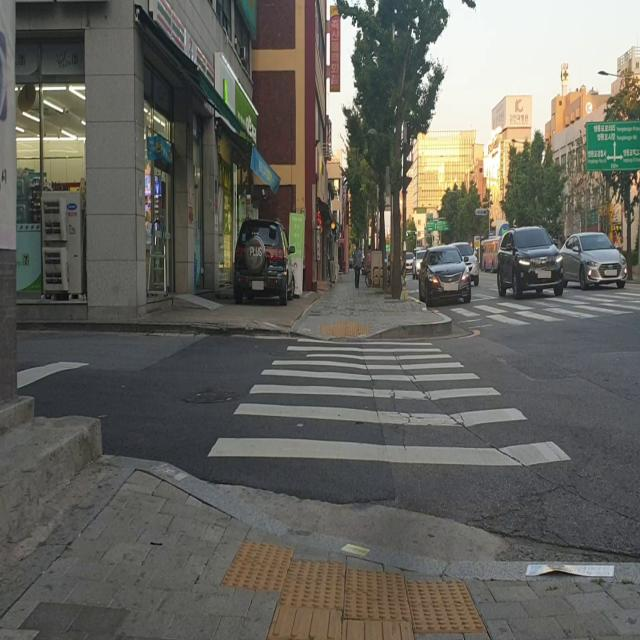횡단보도: (204, 336, 573, 470), (450, 290, 640, 329)
